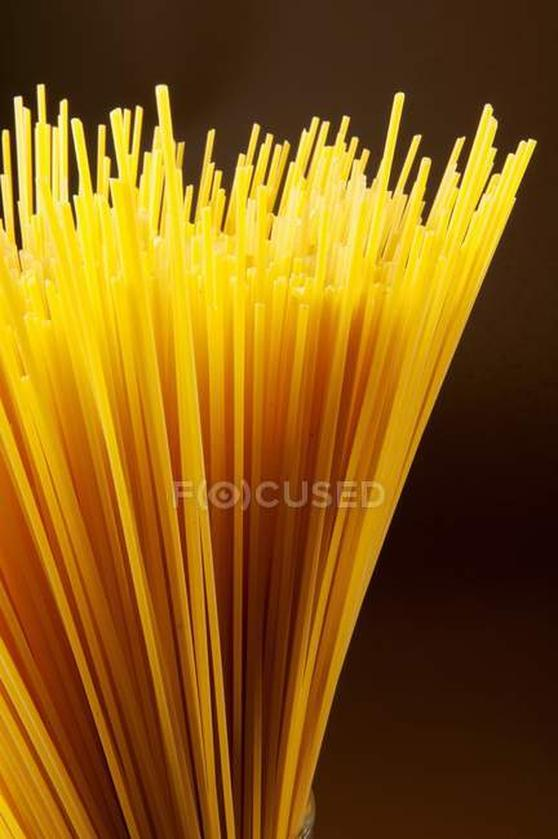spaghetti: (1, 73, 526, 794)
